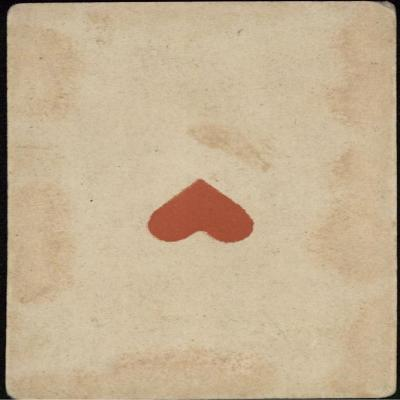dpi: (2, 0, 400, 400)
